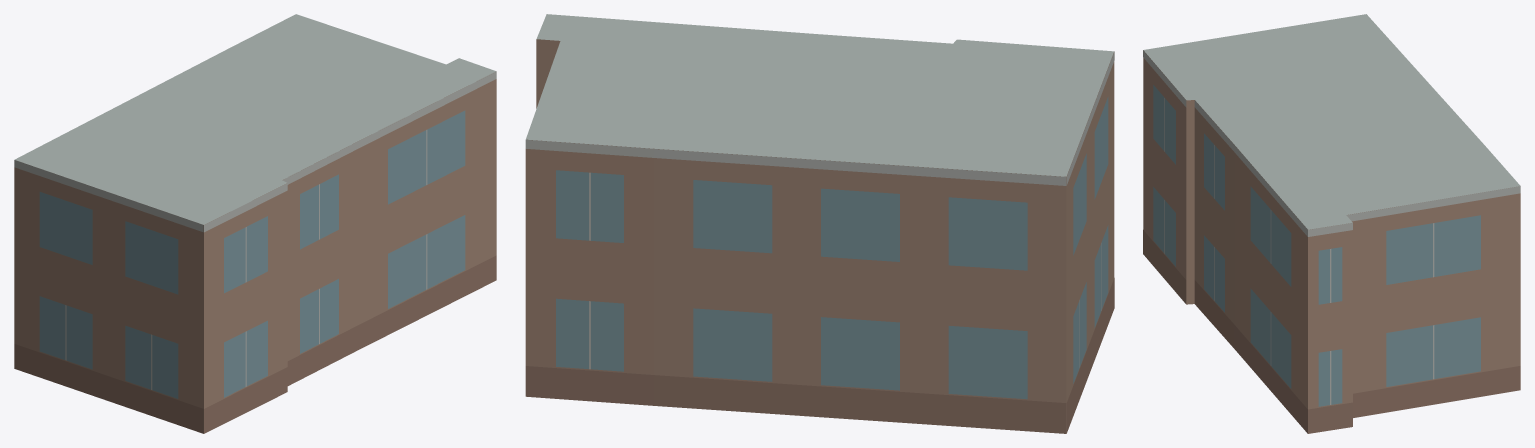
File: survey-upis-32963513.glb
3 renders of one model, left to right at view 1: azimuth 30°, elevation 25°; view 2: azimuth 150°, elevation 25°; view 3: azimuth 270°, elevation 25°, orthographic. The views are drawn at different scales.
Parts seen in each view (by area): view 1: survey-upis-32963513.tmp; view 2: survey-upis-32963513.tmp; view 3: survey-upis-32963513.tmp.
Boxes of the visible parts, x1=… form: survey-upis-32963513.tmp: x1=14, y1=14, x2=496, y2=433; survey-upis-32963513.tmp: x1=525, y1=14, x2=1114, y2=433; survey-upis-32963513.tmp: x1=1143, y1=14, x2=1520, y2=433.
Size of the model in its own units: 15.42 by 6.8 by 11.4.
